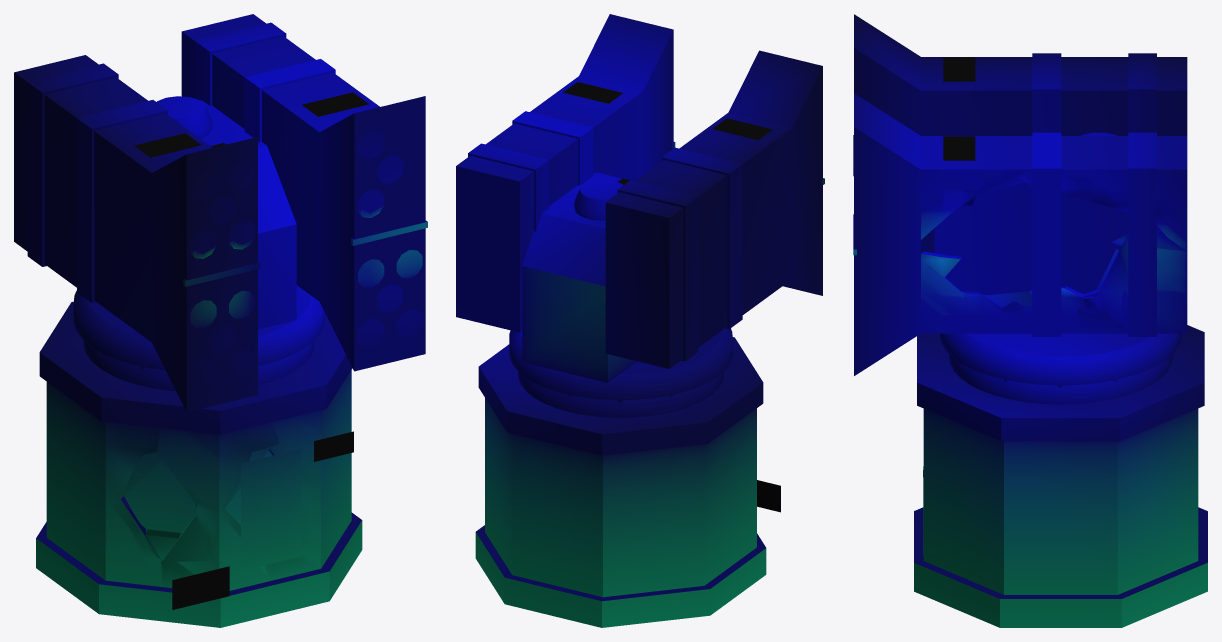
Rendered from lrmturret_damaged.glb.
3 views of the same model, side by side, from view 1: azimuth 30°, elevation 25°; view 2: azimuth 150°, elevation 25°; view 3: azimuth 270°, elevation 25° (orthographic). The views are drawn at different scales.
Parts seen in each view (by area): view 1: lod0_Gun, lod0_Base, lod0_Turret, lod1_Base, lod1_Gun, lod1_Turret; view 2: lod0_Gun, lod0_Base, lod0_Turret, lod1_Turret; view 3: lod0_Gun, lod0_Base, lod0_Turret, lod1_Gun, lod1_Turret.
Boxes of the visible parts, <box> form: lod0_Gun: <box>14,14,427,412</box>; lod0_Base: <box>36,301,362,627</box>; lod0_Turret: <box>73,96,324,370</box>; lod1_Base: <box>105,410,320,587</box>; lod1_Gun: <box>191,131,421,387</box>; lod1_Turret: <box>75,285,322,369</box>; lod0_Gun: <box>456,14,824,368</box>; lod0_Base: <box>475,337,780,627</box>; lod0_Turret: <box>509,172,732,400</box>; lod1_Turret: <box>510,328,731,400</box>; lod0_Gun: <box>853,14,1187,375</box>; lod0_Base: <box>914,325,1207,627</box>; lod0_Turret: <box>939,132,1182,385</box>; lod1_Gun: <box>921,169,1187,333</box>; lod1_Turret: <box>941,333,1180,382</box>.
Size of the model in its own units: 4.6 by 8.55 by 5.55.
